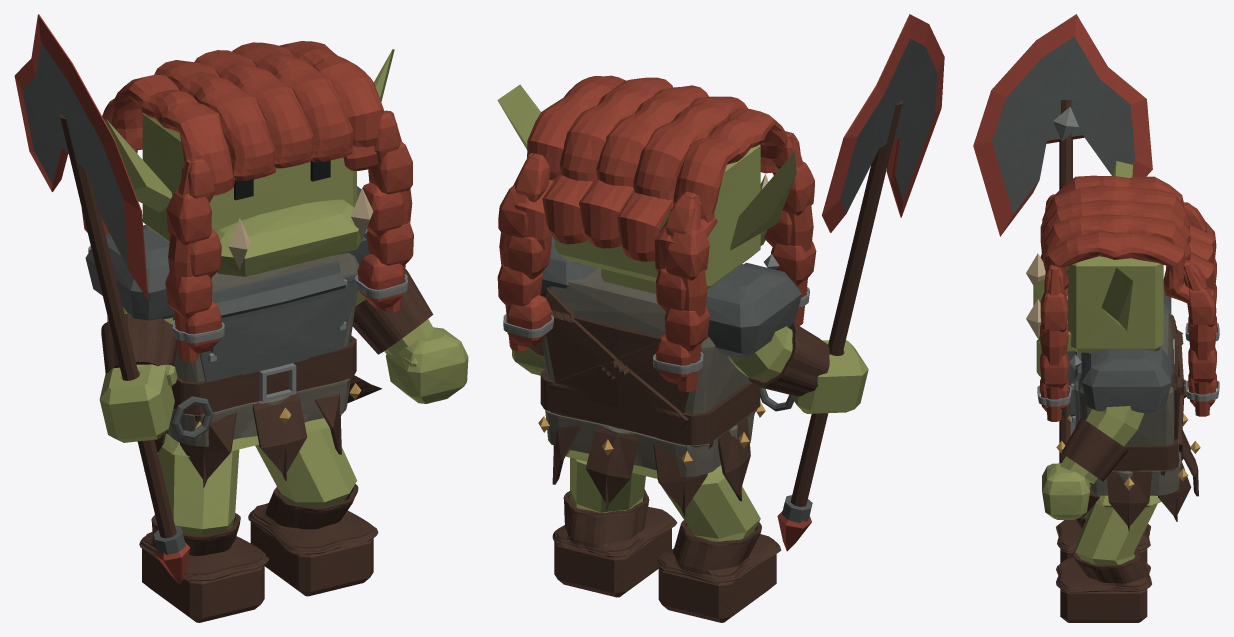
The model's file is host_13.glb.
The picture shows the model from 3 angles, left to right: view 1: azimuth 30°, elevation 25°; view 2: azimuth 150°, elevation 25°; view 3: azimuth 270°, elevation 25°; orthographic projection. The views are drawn at different scales.
Parts seen in each view (by area): view 1: One continuous source skull, RIGHT source broad double hooked axe steel center, Source fitted dark leather front bodice, Continuous red braid 1, Continuous red braid -1, Source actual parallel forehead-to-nape braid course 4, Source actual parallel forehead-to-nape braid course 3, RIGHT source axe full actual handle, Source actual parallel forehead-to-nape braid course 1, Source actual parallel forehead-to-nape braid course 2, LEFT source planted boot tall leather shin cuff, RIGHT source short joined leg (+25 smaller); view 2: RIGHT source broad double hooked axe steel center, Continuous red braid BACK1, Source actual parallel forehead-to-nape braid course 3, Source connected torso mass, Continuous red braid BACK-1, Source actual parallel forehead-to-nape braid course 2, Source actual parallel forehead-to-nape braid course 1, Source angular shoulder plate 1, One continuous source skull, Source actual parallel forehead-to-nape braid course 4, Source wide brown studded huntress waist, Source faceted back plate (+25 smaller); view 3: RIGHT source broad double hooked axe steel center, One continuous source skull, Source angular shoulder plate -1, Source actual parallel forehead-to-nape braid course 0, Continuous red braid -1, Continuous red braid BACK-1, Source actual parallel forehead-to-nape braid course 1, LEFT source short joined leg, LEFT source planted boot tall leather shin cuff, LEFT source planted boot, Source actual parallel forehead-to-nape braid course 2, Source actual parallel forehead-to-nape braid course 3 (+20 smaller).
Boxes of the visible parts, bbox=[...] form: One continuous source skull: bbox=[142, 113, 363, 276]; RIGHT source broad double hooked axe steel center: bbox=[14, 14, 148, 299]; Source fitted dark leather front bodice: bbox=[210, 261, 346, 365]; Continuous red braid 1: bbox=[165, 158, 221, 361]; Continuous red braid -1: bbox=[357, 110, 413, 312]; Source actual parallel forehead-to-nape braid course 4: bbox=[112, 74, 234, 195]; Source actual parallel forehead-to-nape braid course 3: bbox=[137, 60, 276, 180]; RIGHT source axe full actual handle: bbox=[59, 114, 176, 538]; Source actual parallel forehead-to-nape braid course 1: bbox=[232, 42, 353, 162]; Source actual parallel forehead-to-nape braid course 2: bbox=[194, 50, 313, 168]; LEFT source planted boot tall leather shin cuff: bbox=[248, 484, 378, 554]; RIGHT source short joined leg: bbox=[158, 447, 239, 535]; RIGHT source broad double hooked axe steel center: bbox=[822, 14, 944, 232]; Continuous red braid BACK1: bbox=[656, 191, 709, 392]; Source actual parallel forehead-to-nape braid course 3: bbox=[617, 96, 748, 261]; Source connected torso mass: bbox=[542, 268, 749, 444]; Continuous red braid BACK-1: bbox=[497, 153, 551, 351]; Source actual parallel forehead-to-nape braid course 2: bbox=[578, 85, 708, 248]; Source actual parallel forehead-to-nape braid course 1: bbox=[542, 77, 673, 244]; Source angular shoulder plate 1: bbox=[706, 262, 801, 358]; One continuous source skull: bbox=[555, 144, 766, 289]; Source actual parallel forehead-to-nape braid course 4: bbox=[654, 108, 787, 273]; Source wide brown studded huntress waist: bbox=[540, 369, 760, 445]; Source faceted back plate: bbox=[546, 316, 688, 414]; RIGHT source broad double hooked axe steel center: bbox=[973, 14, 1152, 236]; One continuous source skull: bbox=[1033, 256, 1163, 352]; Source angular shoulder plate -1: bbox=[1081, 348, 1171, 414]; Source actual parallel forehead-to-nape braid course 0: bbox=[1046, 231, 1213, 303]; Continuous red braid -1: bbox=[1040, 264, 1068, 421]; Continuous red braid BACK-1: bbox=[1183, 260, 1216, 416]; Source actual parallel forehead-to-nape braid course 1: bbox=[1043, 214, 1214, 294]; LEFT source short joined leg: bbox=[1075, 503, 1157, 565]; LEFT source planted boot tall leather shin cuff: bbox=[1056, 546, 1151, 592]; LEFT source planted boot: bbox=[1060, 589, 1147, 622]; Source actual parallel forehead-to-nape braid course 2: bbox=[1042, 200, 1214, 276]; Source actual parallel forehead-to-nape braid course 3: bbox=[1042, 185, 1214, 258].
Size of the model in its own units: 1.44 by 2.14 by 0.9759.
Materials: 11 (10 with a texture image).
